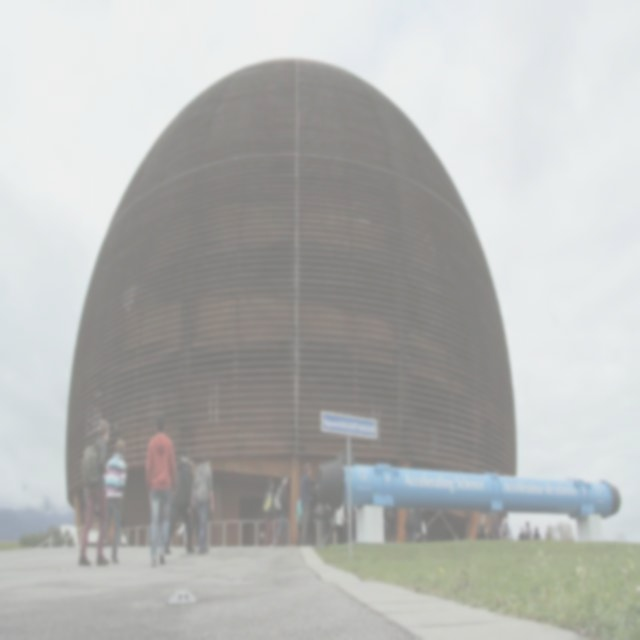pessoa: (76, 416, 112, 566), (144, 412, 178, 568), (164, 445, 196, 556), (103, 437, 128, 564), (190, 449, 215, 556), (173, 458, 197, 552), (299, 461, 317, 547), (314, 478, 333, 550), (274, 474, 288, 548), (402, 506, 427, 544), (334, 502, 346, 546), (262, 478, 275, 518), (476, 512, 492, 543), (386, 506, 398, 544), (296, 490, 304, 546), (500, 510, 513, 540), (532, 524, 542, 551), (492, 512, 500, 542), (522, 518, 532, 540), (518, 525, 527, 540)
